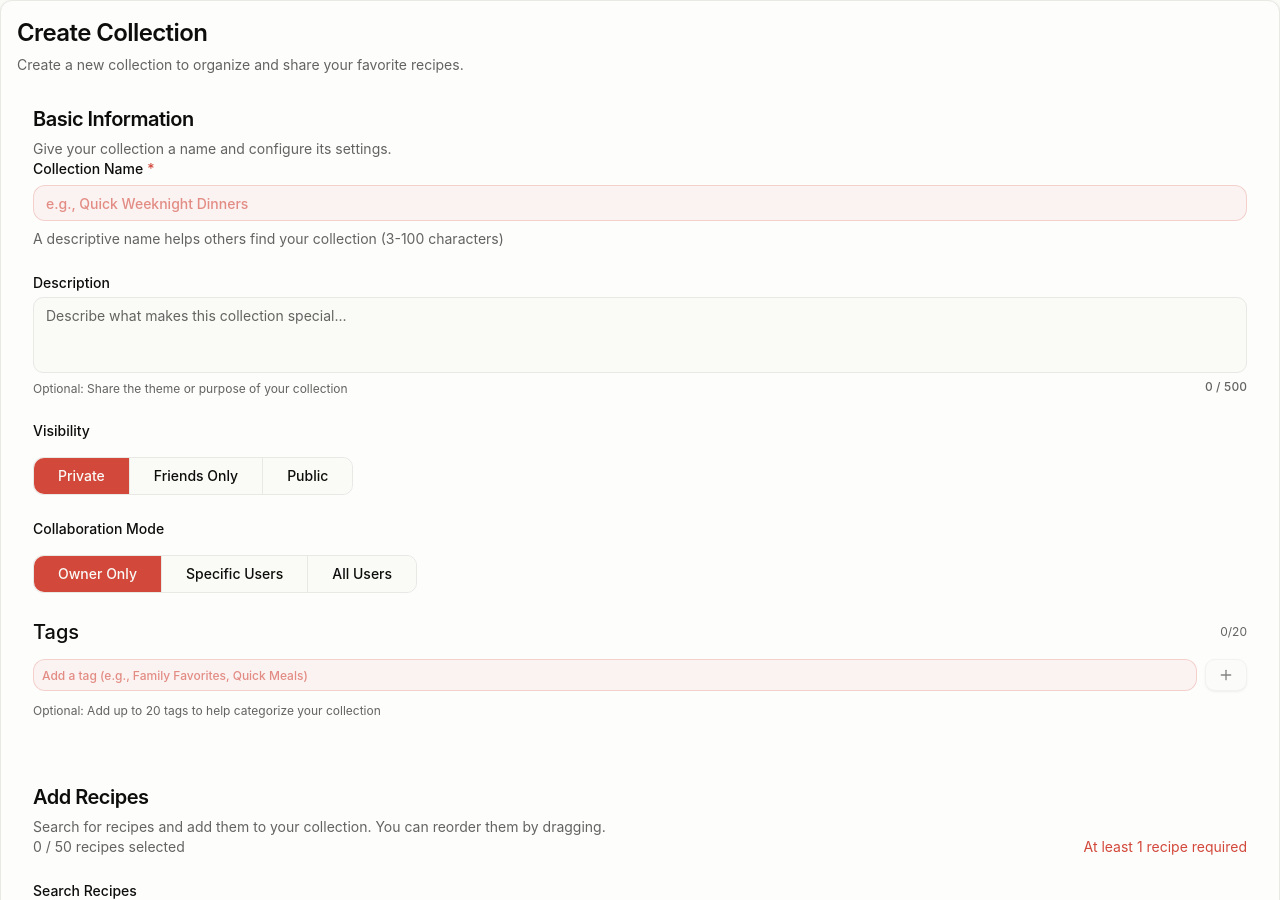
it: CreateCollectionForm › Draft Functionality › should show unsaved changes indicator when form is dirty
# Make changes
In the field labelled "Collection Name": (640,203) [33,185,1247,221], type "New Collection"
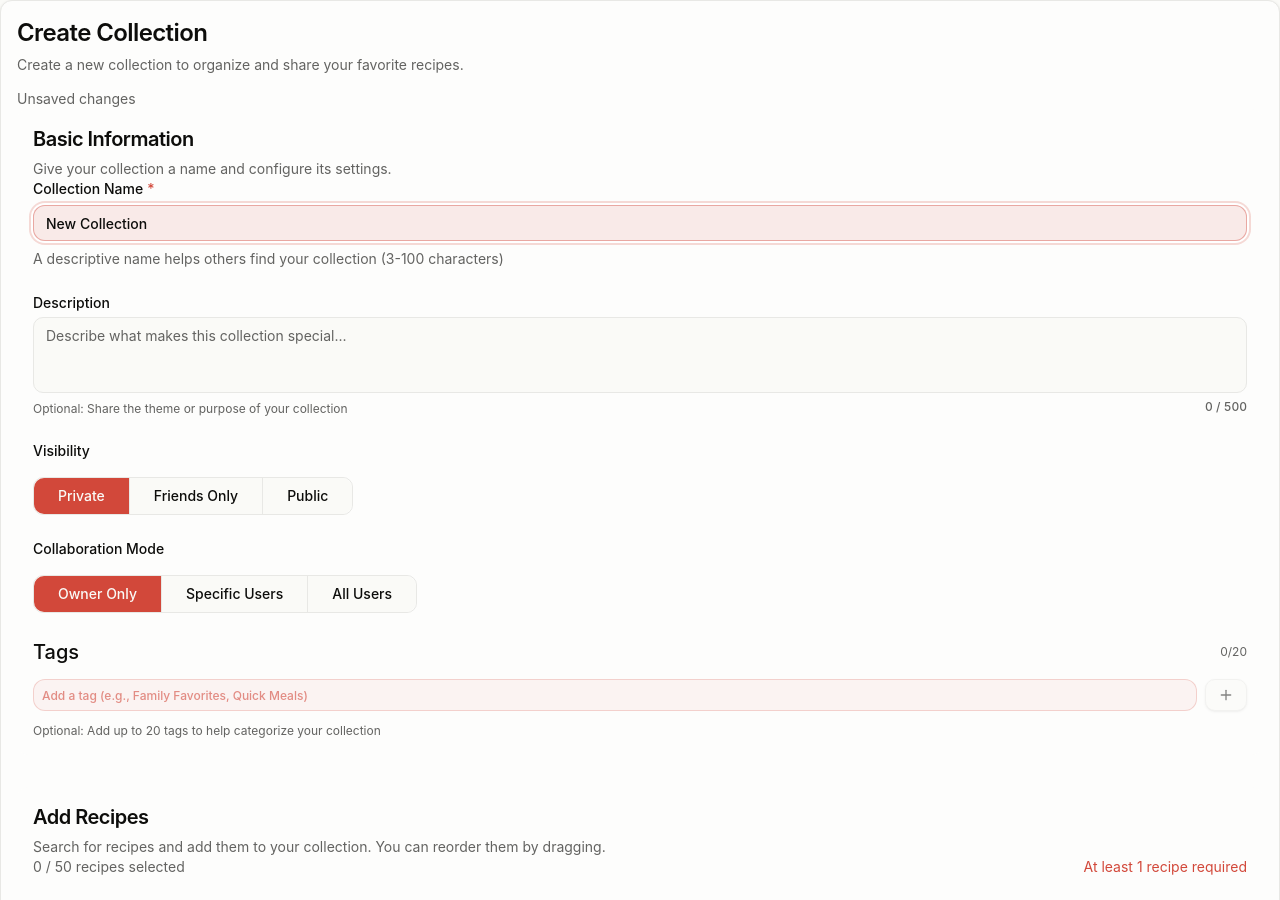
Now the text "Unsaved changes" is shown, box [17,89,136,109]
